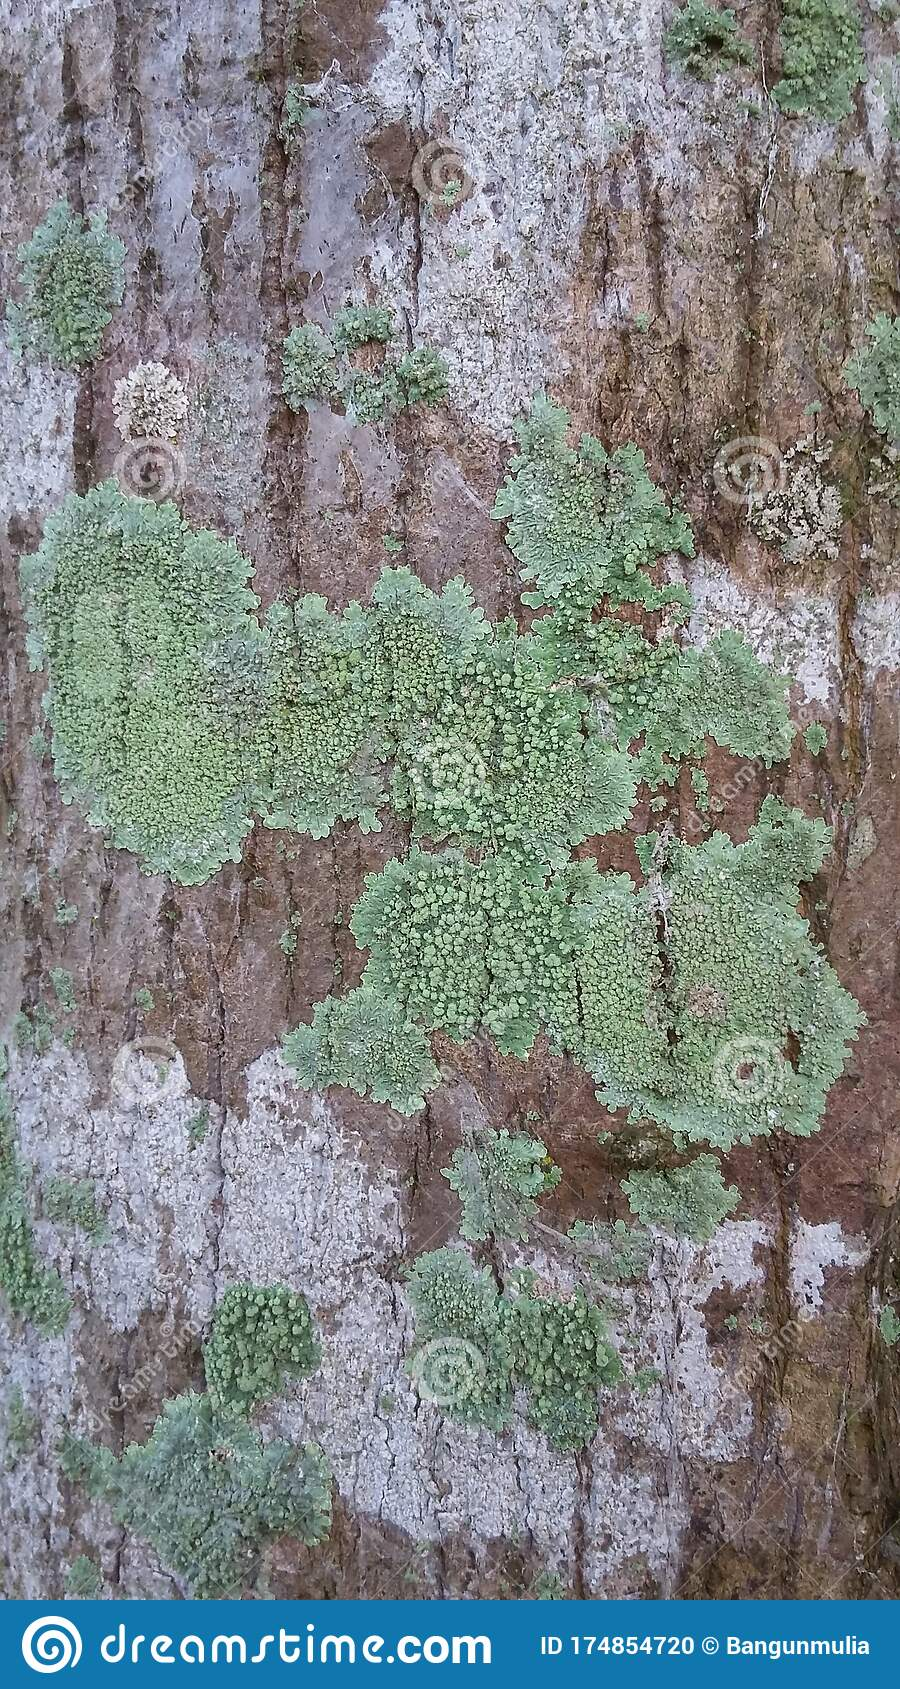Trichoderma: (480, 412, 842, 1152), (35, 481, 461, 869), (402, 1246, 722, 1452), (122, 1431, 310, 1571)
